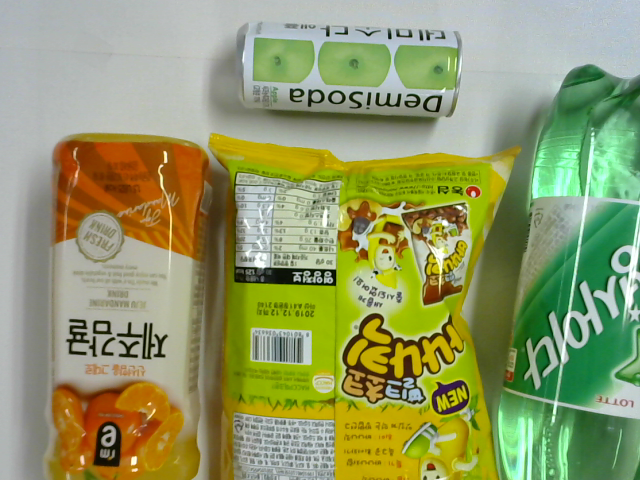Banana_Kick: (205, 132, 498, 480)
Chilseong_Cider_1.5L: (499, 60, 640, 472)
Demisoda_Apple_Can_250ml: (225, 20, 457, 122)
Jeju_Tangerine_1.5L: (45, 132, 205, 480)
